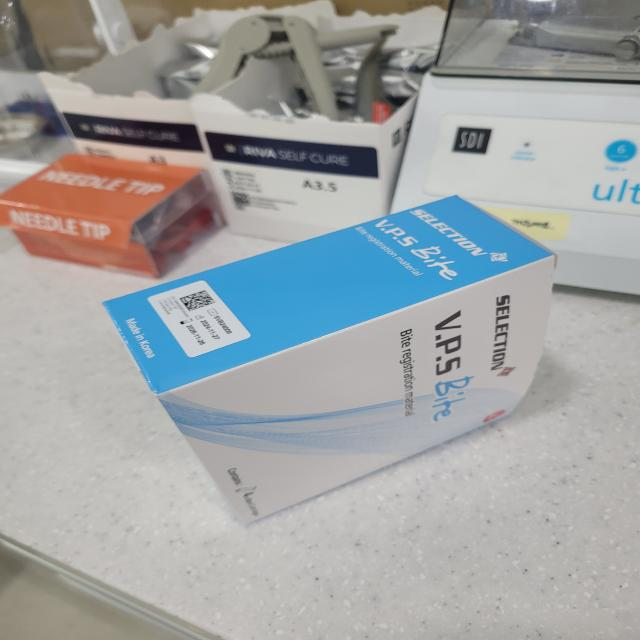impression: (72, 174, 584, 540)
